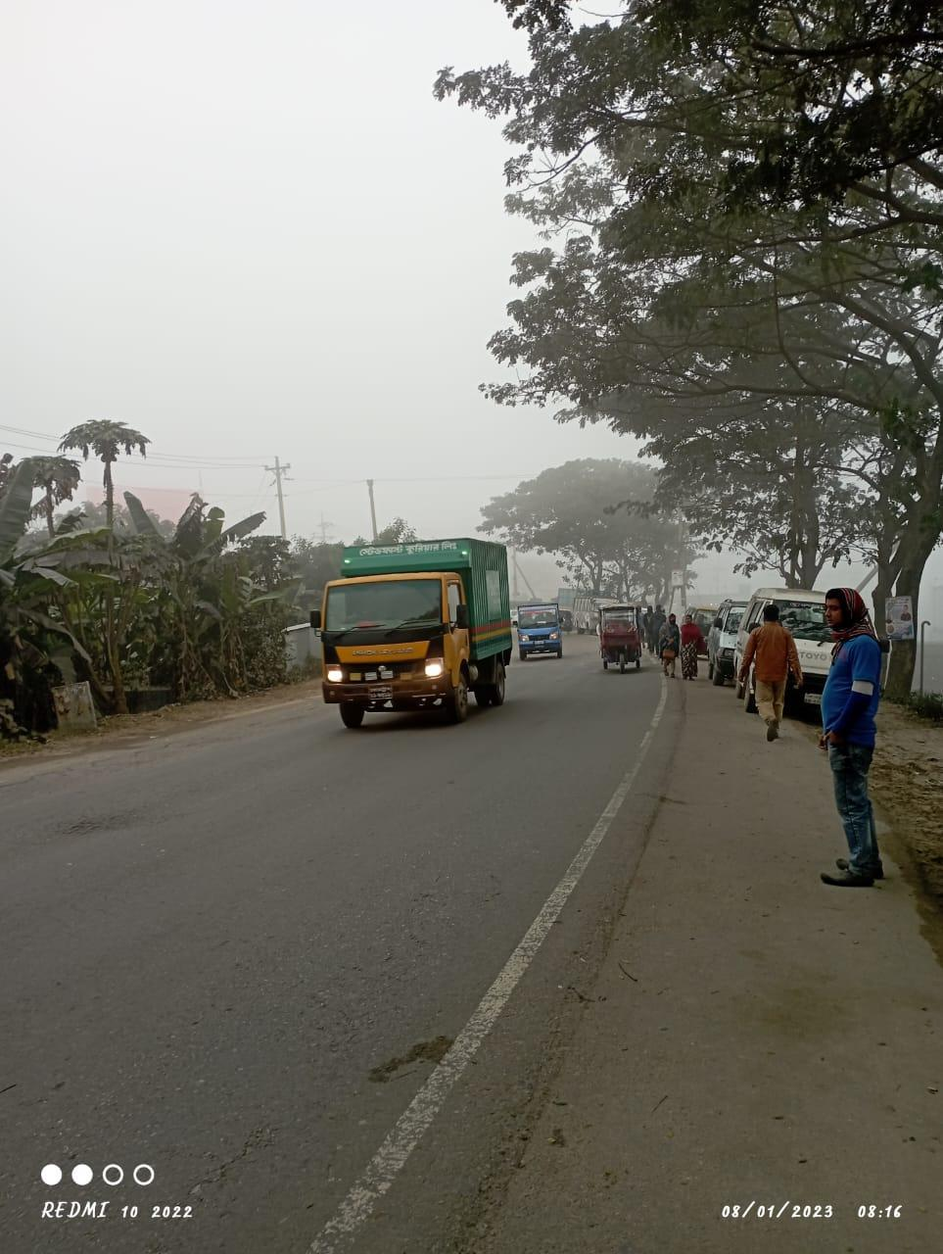Car: (732, 583, 877, 725), (592, 596, 644, 674)
Truck: (303, 537, 518, 714), (511, 596, 573, 658)
